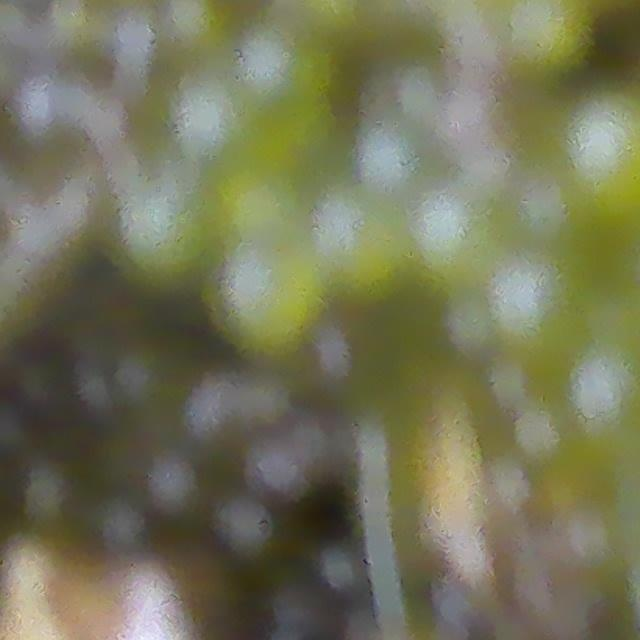SeaGrape: (207, 245, 314, 352), (556, 93, 640, 228), (236, 21, 333, 114), (485, 256, 576, 353), (117, 194, 209, 288), (404, 188, 493, 285), (172, 77, 255, 163), (245, 435, 334, 505), (508, 171, 586, 248), (356, 120, 429, 198)
